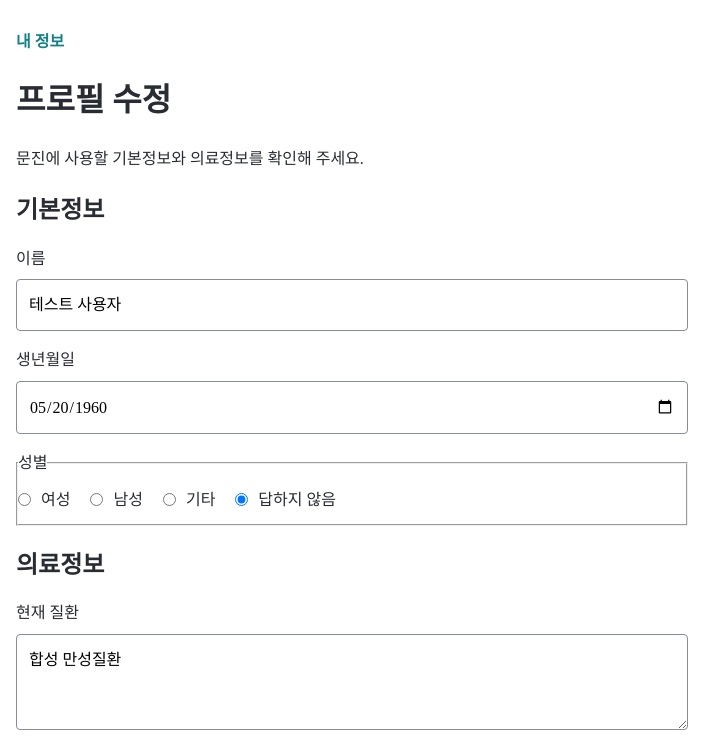
Test: ProfileScreen › 저장 실패 뒤 입력을 유지하고 다시 저장할 수 있다
Replace the text in the field labelled "이름" with "수정한 테스트 사용자" at [352, 305], box [16,279,688,331]
(page scrolled)
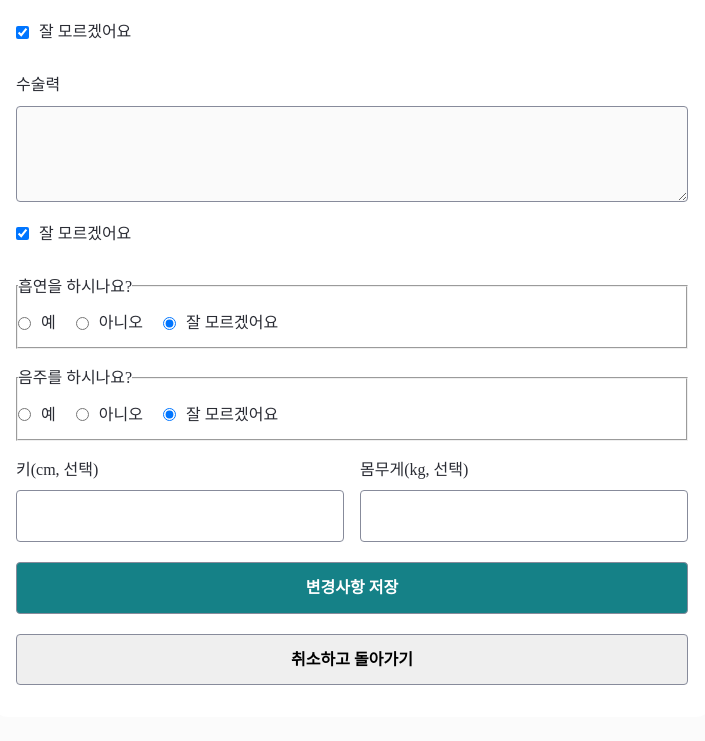
Click the button "변경사항 저장" at [352, 588], box [16,562,688,614]
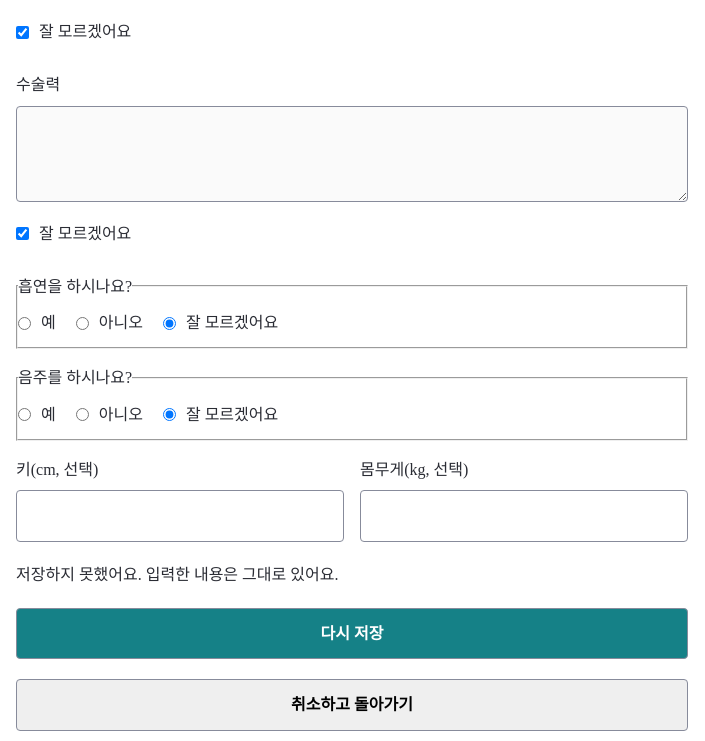
Now the message shows "저장하지 못했어요", box [16,566,338,583]
Click the button "다시 저장" at [352, 634], box [16,608,688,659]
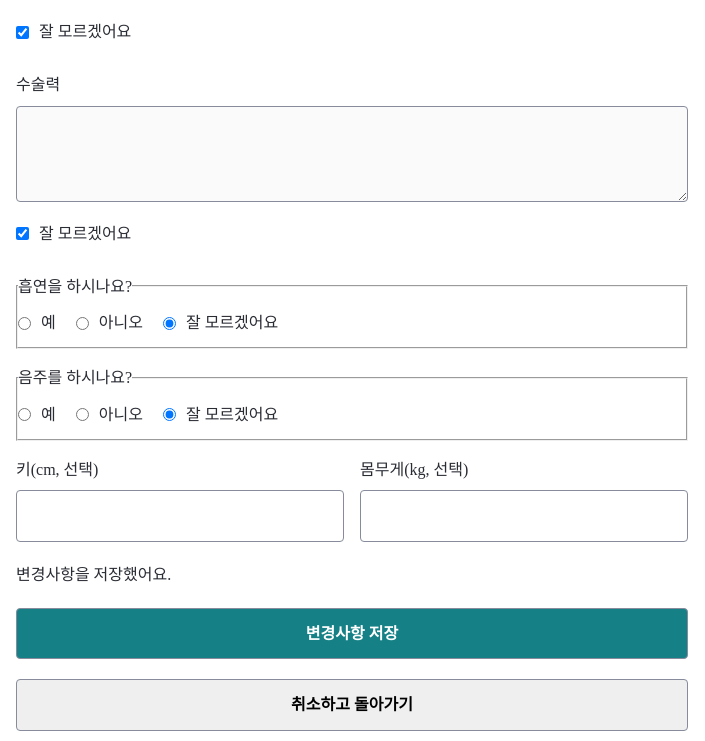
Now the message shows "변경사항을 저장했어요", box [16,566,171,583]
